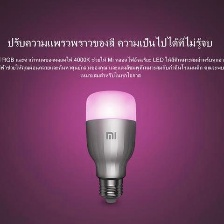light_bulb: (81, 86, 139, 206)
